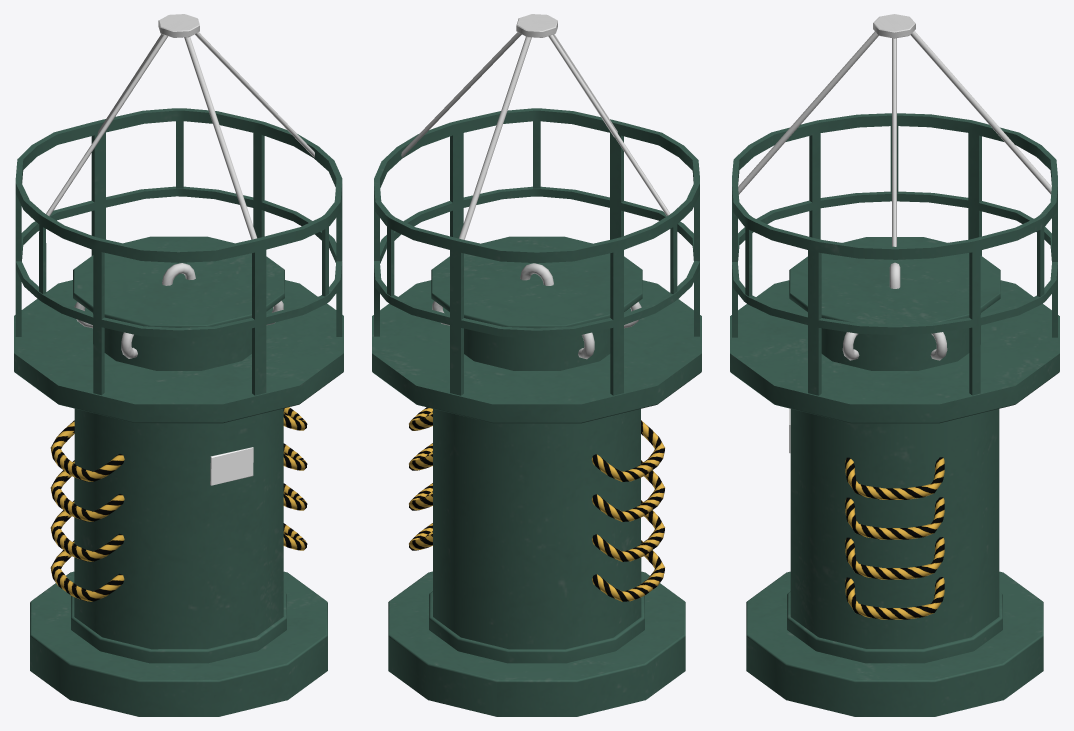
File: coneThing.fbx
3 views of the same model, side by side, from view 1: azimuth 30°, elevation 25°; view 2: azimuth 150°, elevation 25°; view 3: azimuth 270°, elevation 25° (orthographic).
Visible parts, largest first — view 1: coneThing_lo; view 2: coneThing_lo; view 3: coneThing_lo.
Boxes of the visible parts, <box> form: coneThing_lo: <box>14,14,343,716</box>; coneThing_lo: <box>372,14,701,716</box>; coneThing_lo: <box>730,14,1059,716</box>.
Bounding box in the file's own units: 2.08 × 4.39 × 2.08.
